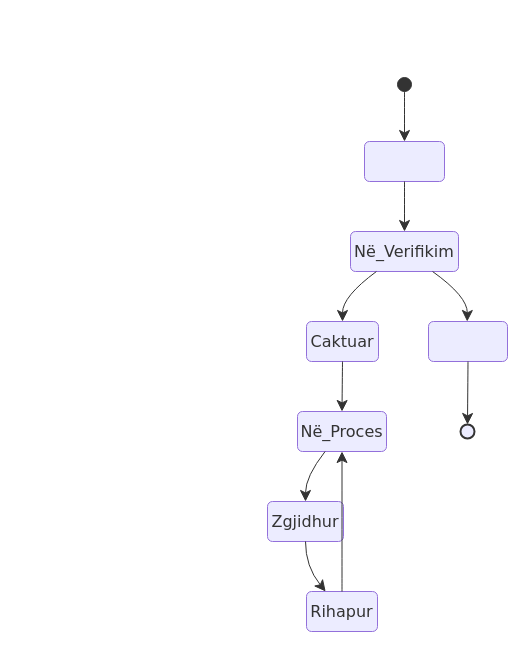
Some shapes in this 525 by 649 pixel diagram are drawn without their labels. The shapes that lost their labels are listed below. From the top down, each one's centre as x and y in pixels, then its label:
the point at 404,161: Dorëzuar
the point at 468,341: Refuzuar
